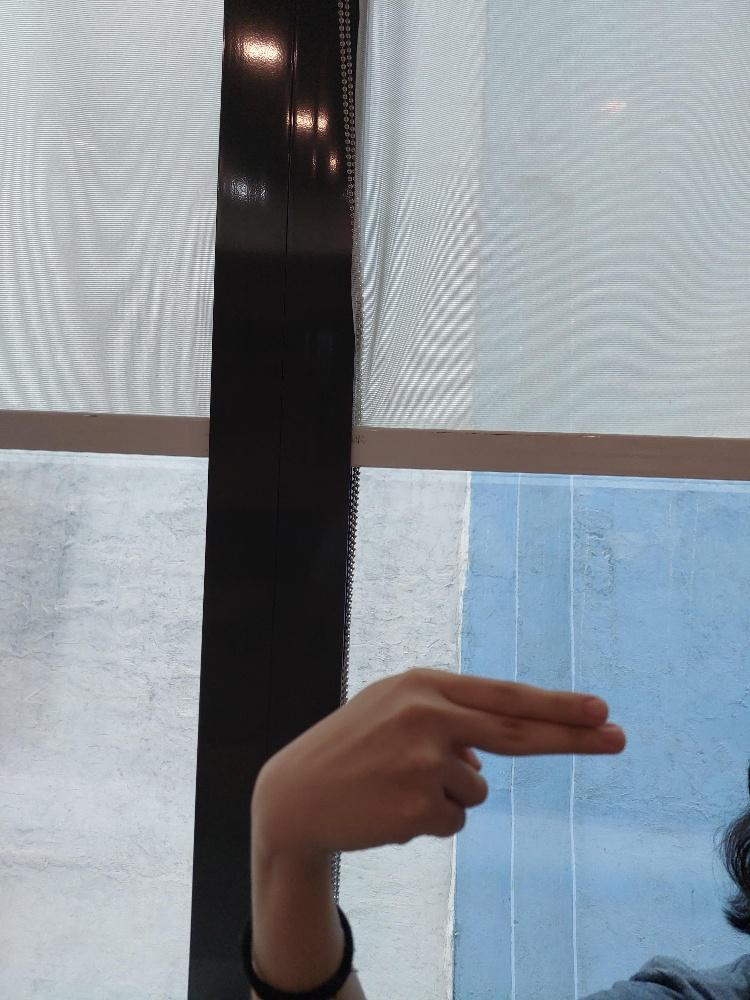h: (248, 667, 625, 849)
